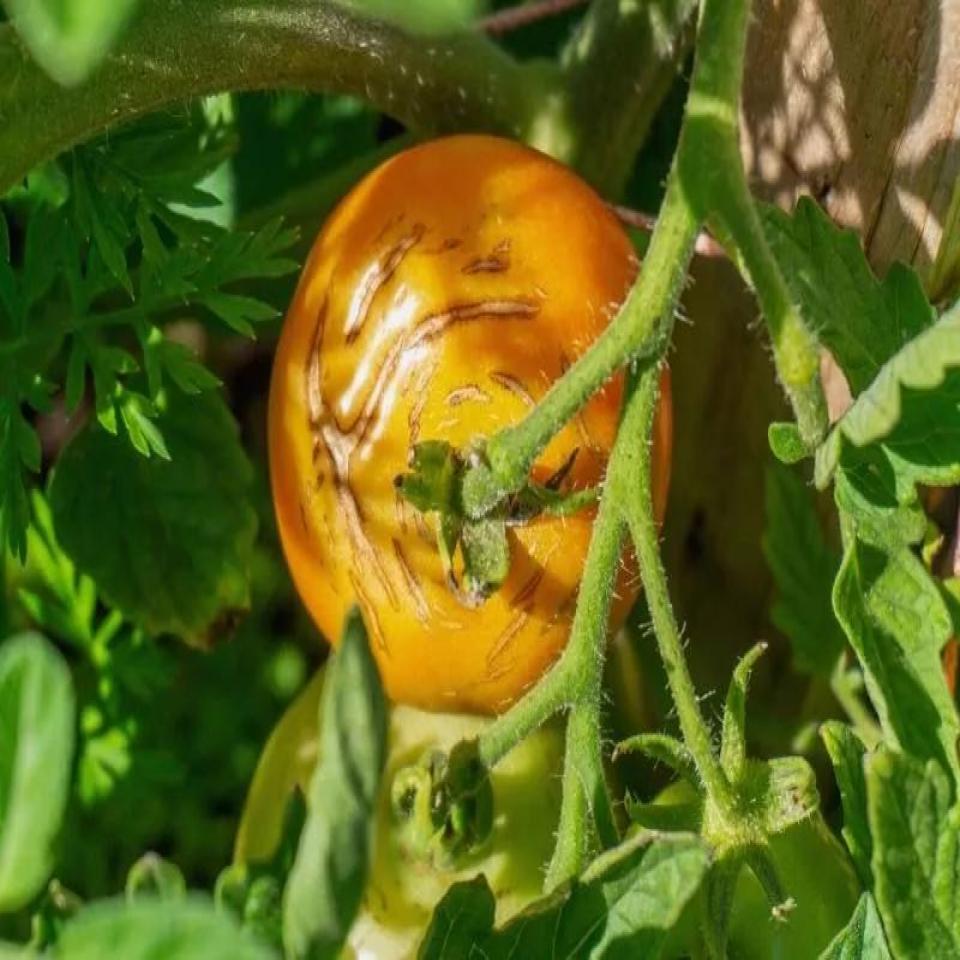Cracking: (323, 248, 560, 409), (278, 284, 393, 602), (321, 190, 422, 331), (434, 537, 566, 641), (433, 330, 535, 389)
